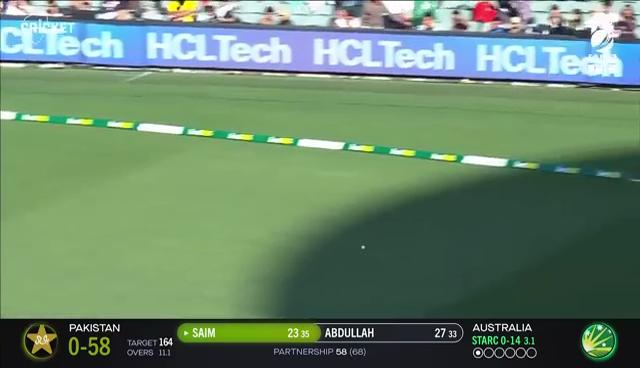ball: (357, 238, 373, 258)
